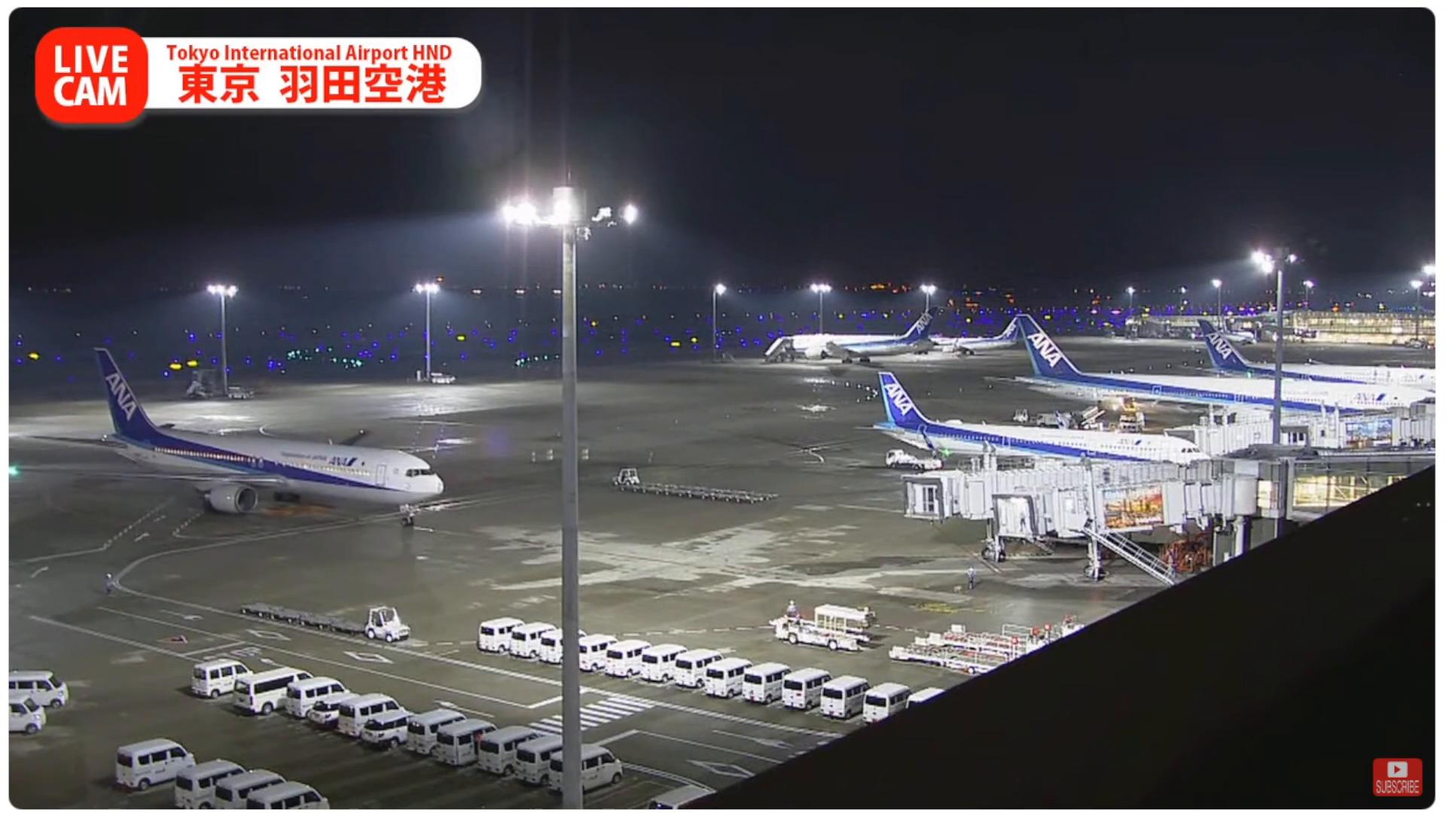Aerobridge: (895, 455, 1233, 522), (992, 475, 1249, 541)
Airplane: (11, 342, 448, 527)
Dolly: (242, 594, 368, 640), (629, 477, 782, 503)
JCPL: (936, 615, 1090, 655), (894, 636, 1030, 678)
Skyloader: (776, 601, 874, 655)
Tractor: (362, 599, 414, 650), (604, 468, 641, 494)
Window: (1293, 468, 1419, 517)
